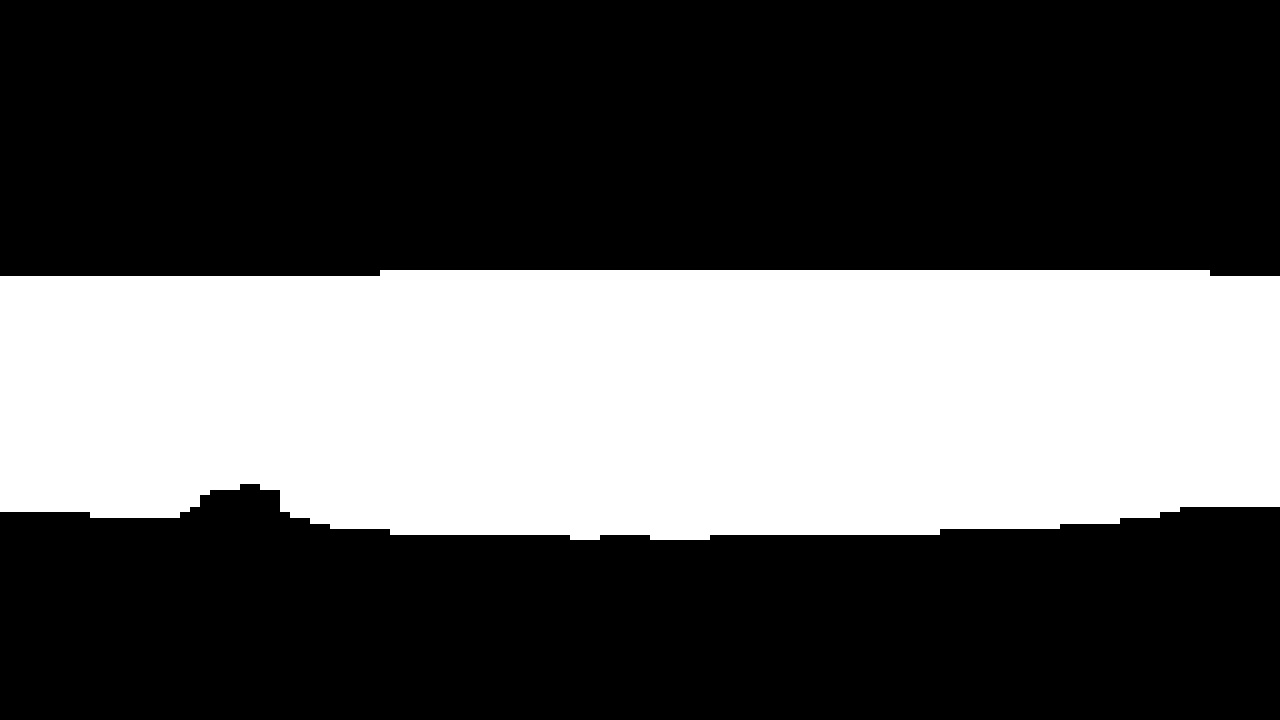Turbine: (6, 243, 1247, 545)
